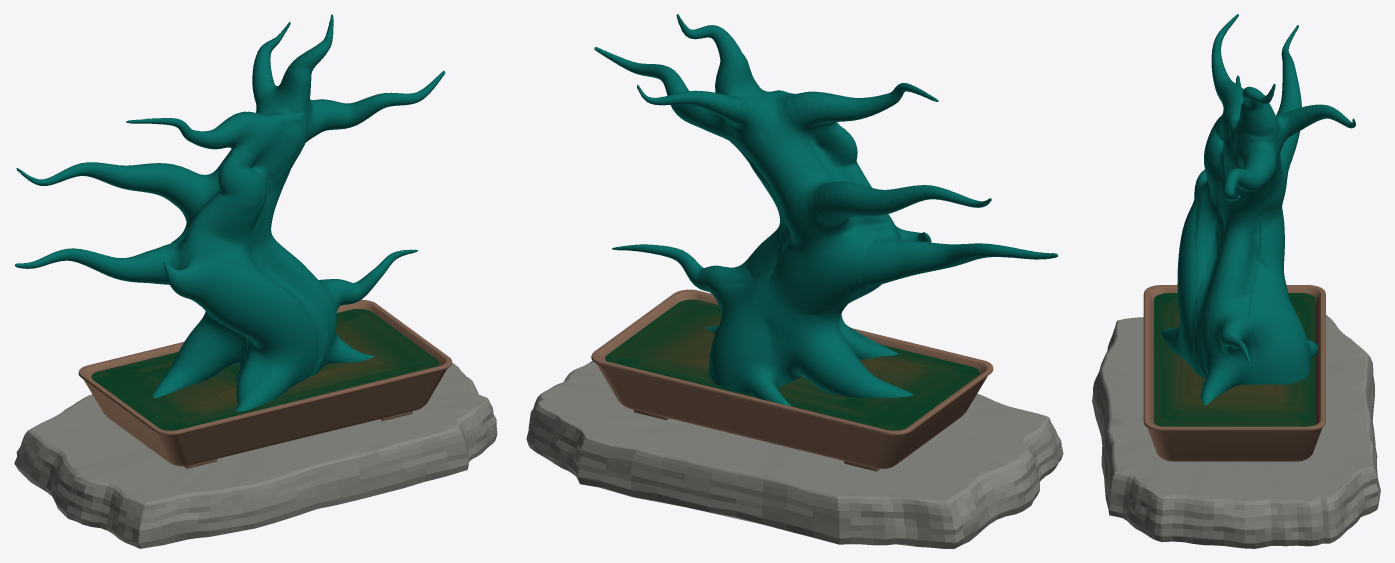
Rendered from hero-v03.glb.
The picture shows the model from 3 angles, left to right: view 1: azimuth 30°, elevation 25°; view 2: azimuth 150°, elevation 25°; view 3: azimuth 270°, elevation 25°; orthographic projection. The views are drawn at different scales.
Parts seen in each view (by area): view 1: Continuous aged trunk and primary branches, Low split natural bedding stone, Shallow unglazed pot, Continuous planted soil; view 2: Continuous aged trunk and primary branches, Low split natural bedding stone, Shallow unglazed pot, Continuous planted soil; view 3: Low split natural bedding stone, Continuous aged trunk and primary branches, Continuous planted soil, Shallow unglazed pot.
Part boxes in pixels (x1,y1,x2,y2): Continuous aged trunk and primary branches: (15,14,445,411); Low split natural bedding stone: (14,363,497,548); Shallow unglazed pot: (78,299,452,466); Continuous planted soil: (91,309,439,430); Continuous aged trunk and primary branches: (594,14,1057,406); Low split natural bedding stone: (526,360,1063,548); Shallow unglazed pot: (591,289,993,468); Continuous planted soil: (605,299,979,430); Low split natural bedding stone: (1092,315,1380,548); Continuous aged trunk and primary branches: (1162,14,1355,404); Continuous planted soil: (1154,293,1315,426); Shallow unglazed pot: (1143,285,1325,461).
Bounding box in the file's own units: 2.48 × 2.13 × 1.36.
